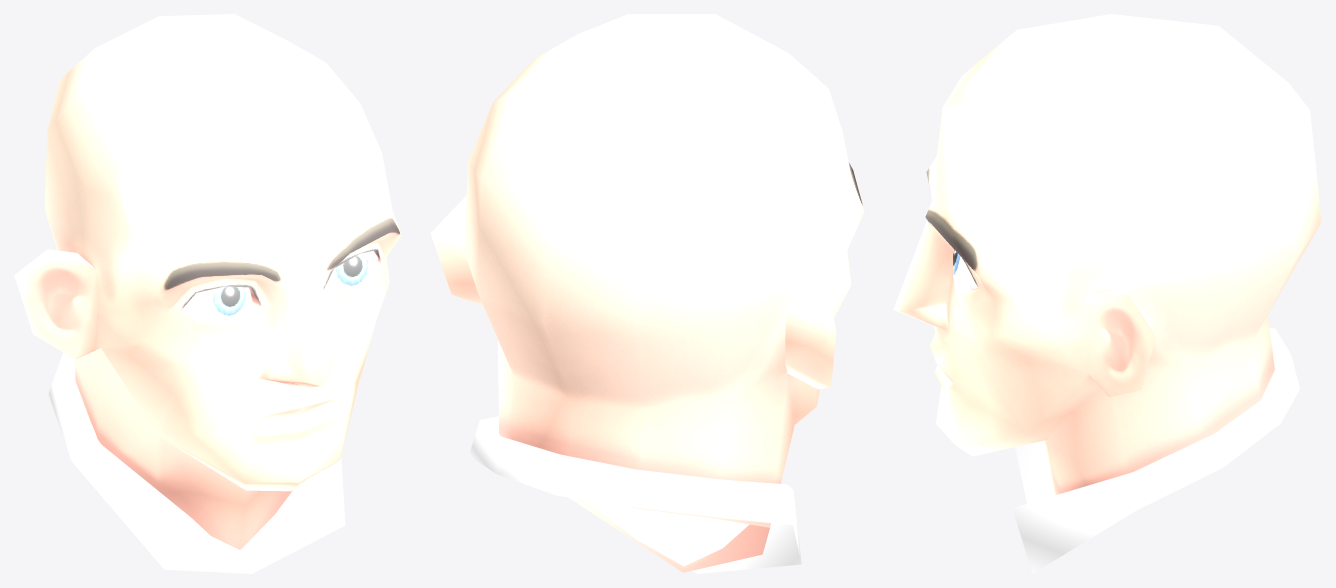
The model's file is head.glb.
3 views of the same model, side by side, from view 1: azimuth 30°, elevation 25°; view 2: azimuth 150°, elevation 25°; view 3: azimuth 270°, elevation 25° (orthographic). The views are drawn at different scales.
Visible parts, largest first — view 1: soldier_head_look_up; view 2: soldier_head_look_up; view 3: soldier_head_look_up.
Part boxes in pixels (x1,y1,x2,y2): soldier_head_look_up: [14, 14, 401, 573]; soldier_head_look_up: [430, 14, 864, 573]; soldier_head_look_up: [893, 14, 1321, 573].
Size of the model in its own units: 0.379 by 0.5002 by 0.3747.
